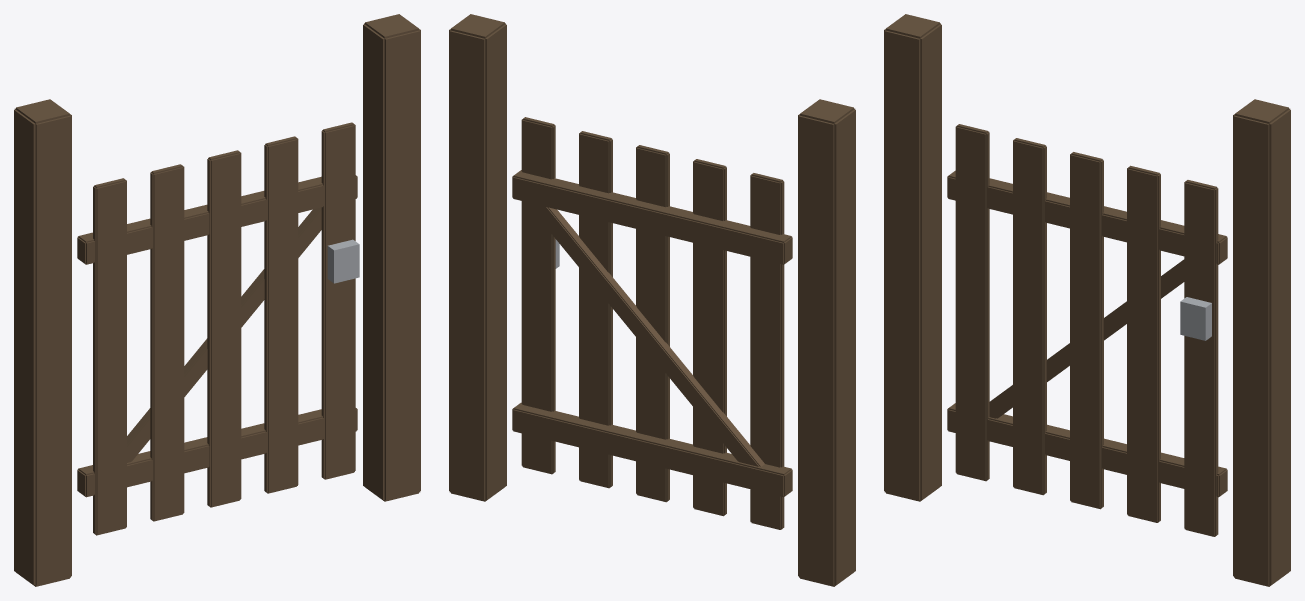
Rendered from gate_picket_closed.glb.
The picture shows the model from 3 angles, left to right: view 1: azimuth 30°, elevation 25°; view 2: azimuth 150°, elevation 25°; view 3: azimuth 330°, elevation 25°; orthographic projection.
Parts seen in each view (by area): view 1: leaf_mesh, post, post.001; view 2: leaf_mesh, post, post.001; view 3: leaf_mesh, post, post.001.
Part boxes in pixels (x1,y1,x2,y2): leaf_mesh: (77,122,359,535); post: (14,99,71,586); post.001: (363,14,420,501); leaf_mesh: (512,117,792,529); post: (798,99,855,586); post.001: (449,14,506,501); leaf_mesh: (947,124,1227,536); post: (884,14,941,501); post.001: (1233,99,1290,586).
Size of what is drawn, in the model's own units: 1.22 by 1.4 by 0.125.
